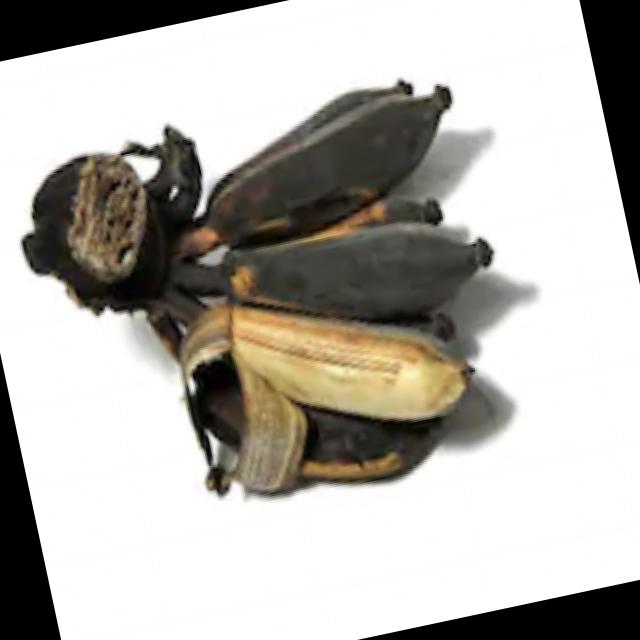rotten-banana: (158, 55, 486, 255), (198, 266, 479, 457), (220, 170, 506, 322)
